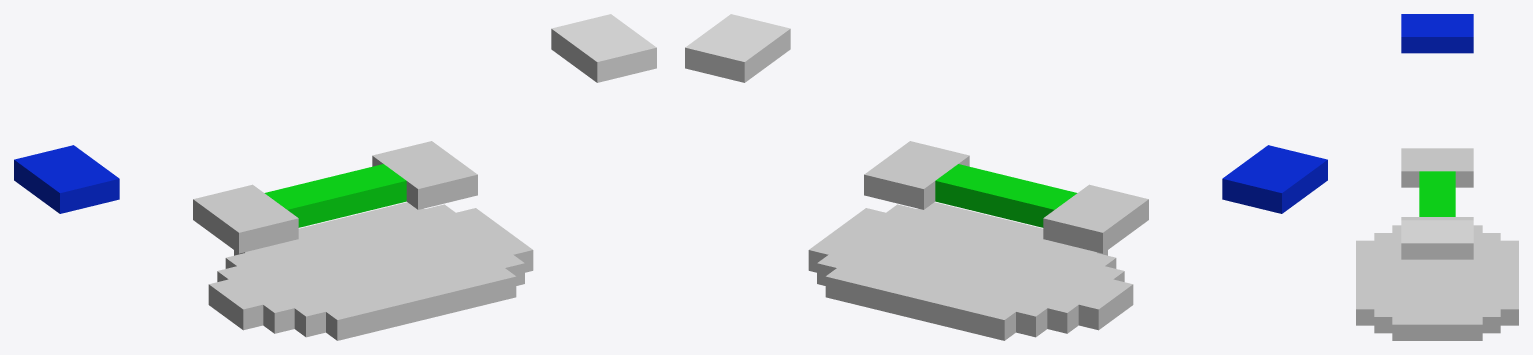
File: LevelCoul.fbx
3 renders of one model, left to right at view 1: azimuth 30°, elevation 25°; view 2: azimuth 150°, elevation 25°; view 3: azimuth 270°, elevation 25°, orthographic. The views are drawn at different scales.
Parts seen in each view (by area): view 1: Cube.026, Cube.028, Cube.032, Cube.031, Cube.033, Cube.027; view 2: Cube.026, Cube.028, Cube.032, Cube.031, Cube.033, Cube.027; view 3: Cube.026, Cube.031, Cube.032, Cube.033, Cube.028, Cube.027.
Part boxes in pixels (x1,y1,x2,y2): Cube.026: [208, 202, 533, 340]; Cube.028: [264, 164, 406, 227]; Cube.032: [14, 145, 119, 213]; Cube.031: [551, 14, 656, 82]; Cube.033: [193, 184, 298, 253]; Cube.027: [372, 141, 477, 209]; Cube.026: [808, 202, 1133, 340]; Cube.028: [935, 164, 1077, 227]; Cube.032: [1222, 145, 1327, 213]; Cube.031: [685, 14, 790, 82]; Cube.033: [1043, 184, 1148, 253]; Cube.027: [864, 141, 969, 209]; Cube.026: [1356, 225, 1518, 340]; Cube.031: [1401, 220, 1473, 259]; Cube.032: [1401, 14, 1473, 53]; Cube.033: [1401, 148, 1473, 187]; Cube.028: [1419, 171, 1455, 216]; Cube.027: [1401, 217, 1473, 220].
Size of the model in its own units: 60 by 18 by 18.
